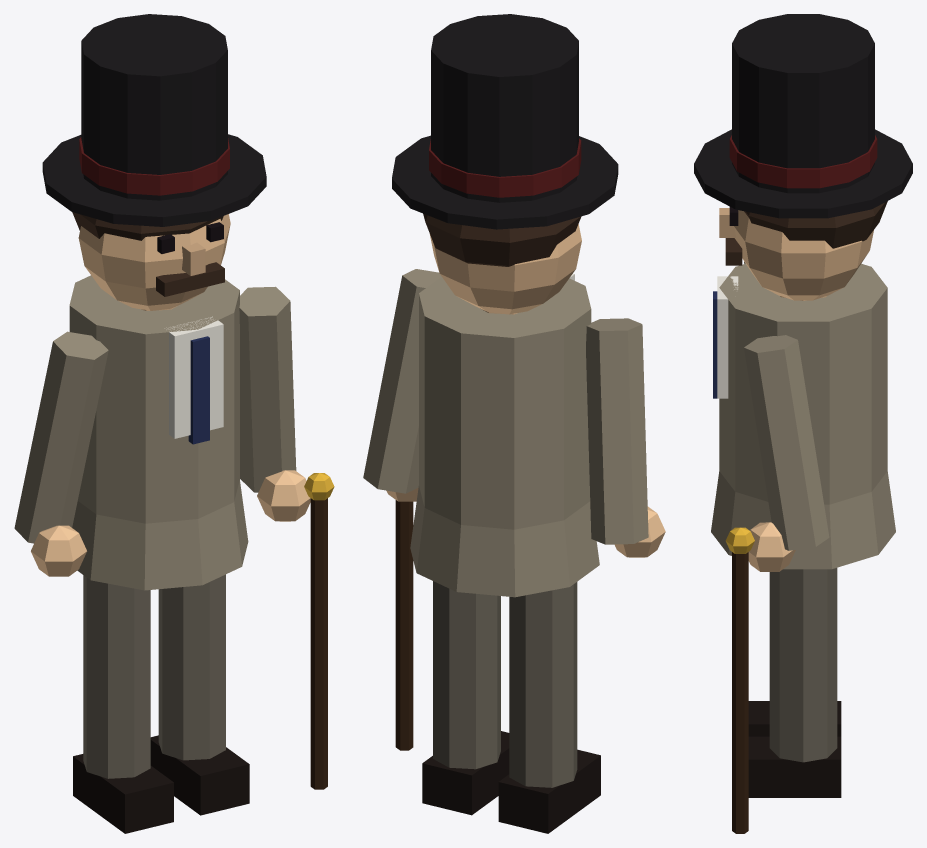
Rendered from postac_zamoyski.glb.
The picture shows the model from 3 angles, left to right: view 1: azimuth 30°, elevation 25°; view 2: azimuth 150°, elevation 25°; view 3: azimuth 270°, elevation 25°; orthographic projection. The views are drawn at different scales.
Visible parts, largest first — view 1: cialo, reka_p, noga_l, noga_p, reka_l; view 2: cialo, noga_l, noga_p, reka_l, reka_p; view 3: cialo, reka_p, noga_p, noga_l.
Boxes of the visible parts, left/top/right/bottom form: cialo: left=42, top=14, right=266, bottom=590; reka_p: left=239, top=286, right=334, bottom=789; noga_l: left=73, top=575, right=173, bottom=833; noga_p: left=150, top=574, right=249, bottom=815; reka_l: left=14, top=331, right=108, bottom=576; cialo: left=392, top=14, right=618, bottom=597; noga_l: left=498, top=582, right=600, bottom=833; noga_p: left=422, top=581, right=509, bottom=815; reka_l: left=586, top=318, right=665, bottom=557; reka_p: left=363, top=269, right=441, bottom=750; cialo: left=694, top=14, right=912, bottom=569; reka_p: left=725, top=335, right=829, bottom=833; noga_p: left=748, top=568, right=841, bottom=797; noga_l: left=748, top=701, right=841, bottom=736.
Bounding box in the file's own units: 0.7366 × 1.9 × 0.52.
